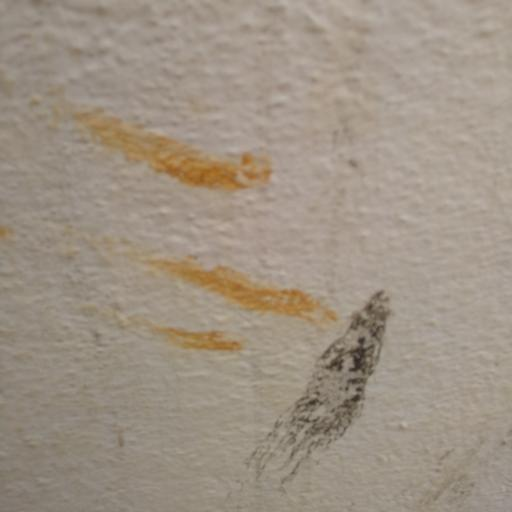stain: (238, 264, 406, 495), (61, 91, 283, 206), (115, 228, 344, 326), (89, 309, 261, 360), (423, 424, 512, 511), (0, 209, 53, 261)
